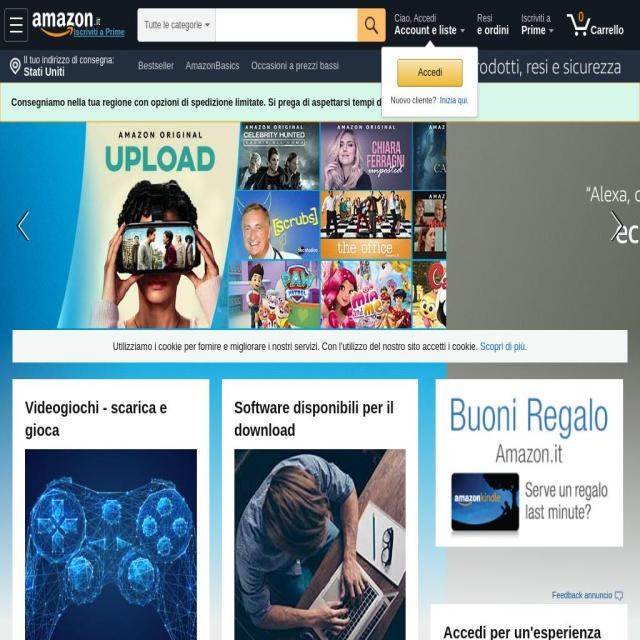button: (25, 449, 197, 640), (234, 449, 406, 640), (0, 122, 50, 330), (590, 122, 640, 330), (390, 50, 640, 82), (33, 4, 133, 46), (7, 51, 121, 83), (4, 8, 122, 38), (388, 5, 471, 47), (561, 5, 638, 47), (246, 55, 344, 77), (471, 5, 515, 47), (516, 5, 560, 47), (398, 59, 463, 87), (133, 165, 215, 187), (237, 128, 312, 150), (277, 165, 345, 187), (181, 55, 245, 77), (309, 92, 373, 113), (216, 165, 276, 187), (245, 92, 307, 113), (133, 128, 184, 150), (185, 128, 236, 150), (167, 92, 217, 113), (133, 55, 179, 77), (313, 128, 354, 150), (552, 590, 623, 602), (4, 8, 28, 42), (133, 92, 166, 113), (218, 92, 244, 113), (74, 28, 125, 36)
field: (216, 9, 358, 41), (358, 8, 386, 42)
heading: (25, 396, 197, 441), (234, 396, 406, 441), (443, 621, 616, 640)
iframe: (435, 379, 623, 588)
image: (24, 449, 197, 640), (234, 449, 406, 640), (390, 50, 640, 82), (33, 12, 93, 38), (567, 14, 591, 36), (8, 57, 22, 76), (10, 18, 22, 32), (614, 591, 623, 601)
link: (14, 204, 36, 248), (604, 204, 626, 248), (480, 340, 528, 352), (439, 95, 469, 105)
text: (11, 96, 468, 108), (113, 340, 478, 352), (398, 60, 463, 85), (144, 12, 202, 39), (24, 54, 121, 66), (394, 23, 457, 37), (24, 66, 72, 82), (477, 24, 515, 41), (552, 590, 614, 600), (394, 13, 442, 24), (590, 23, 624, 37), (391, 95, 438, 105), (522, 13, 556, 24), (522, 23, 546, 37), (477, 13, 498, 24), (365, 17, 378, 34), (94, 16, 101, 27)
